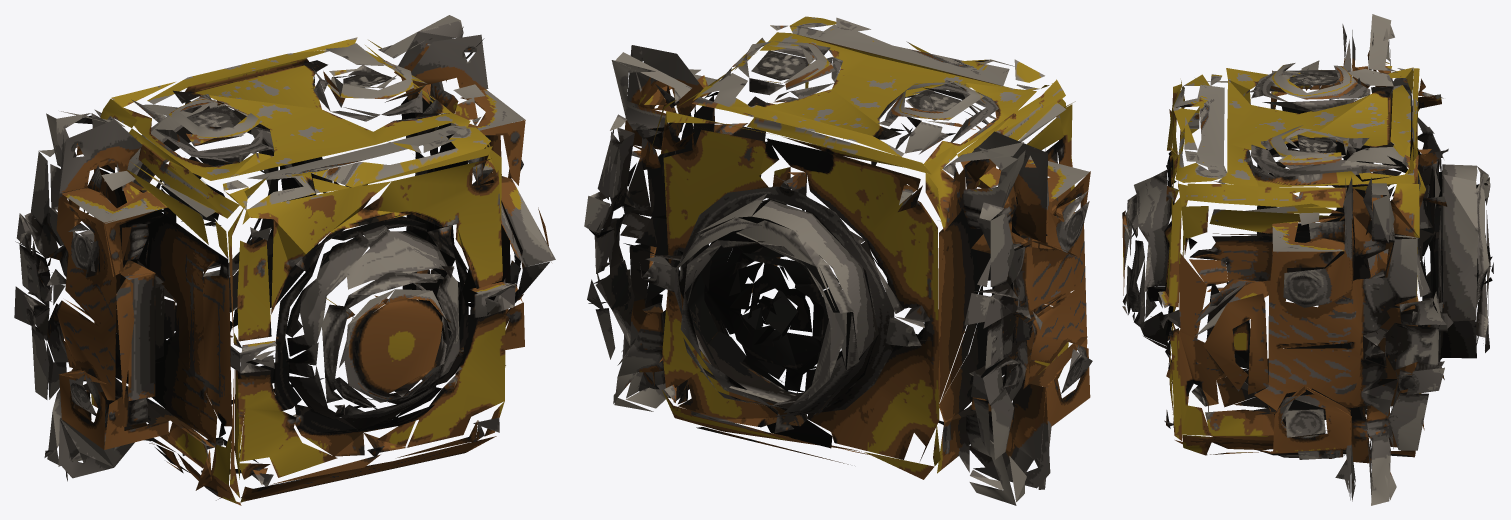
The model's file is co_slug.glb.
3 renders of one model, left to right at view 1: azimuth 30°, elevation 25°; view 2: azimuth 150°, elevation 25°; view 3: azimuth 270°, elevation 25°, orthographic. The views are drawn at different scales.
Visible parts, largest first — view 1: co_slug; view 2: co_slug; view 3: co_slug.
Boxes of the visible parts, x1=… form: co_slug: x1=14, y1=15, x2=555, y2=505; co_slug: x1=584, y1=16, x2=1092, y2=505; co_slug: x1=1122, y1=14, x2=1493, y2=505.
Bounding box in the file's own units: 0.17 × 0.1352 × 0.1425.
1 material, 1 textured.
